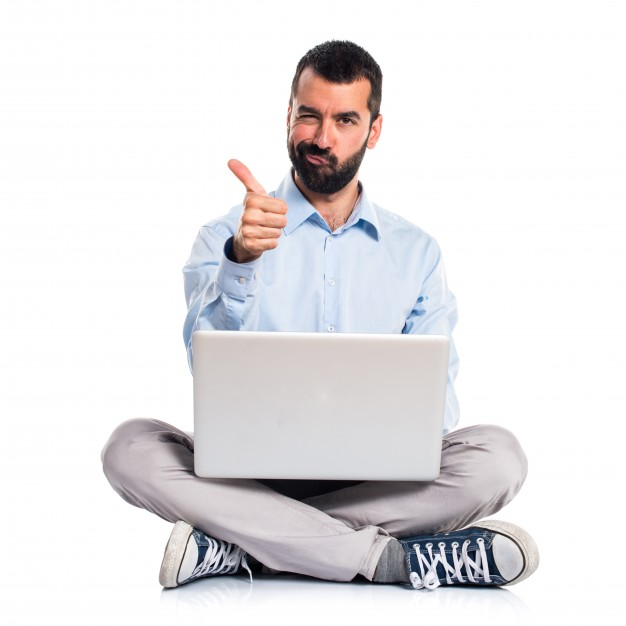thumbsup: (228, 159, 288, 252)
